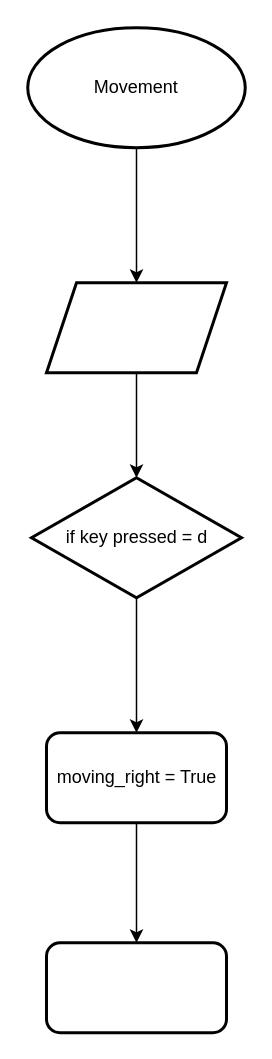
Image size: 272x1059. Some labels were removed from this diagram. Here are the shapes that lost their labels. From the top down, the centre of each, then its label:
At (135,327): "key pressed = keyboard input".
At (135,987): "dx = self.speed".
